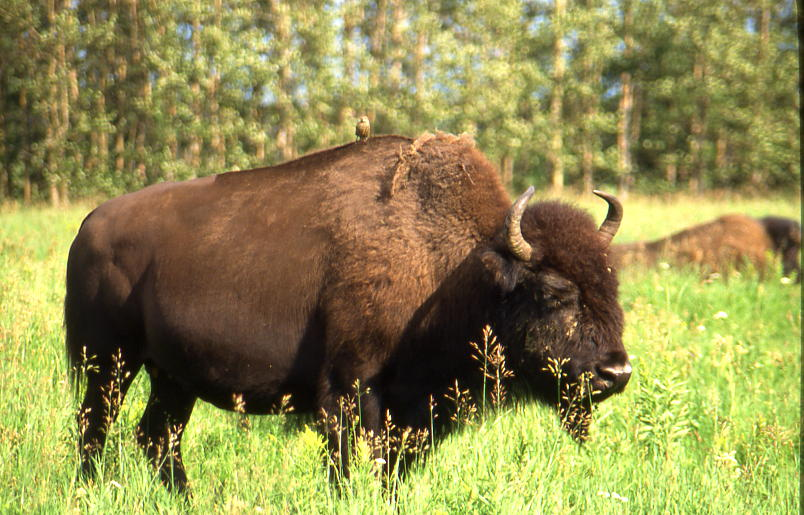yak: (67, 148, 640, 515)
